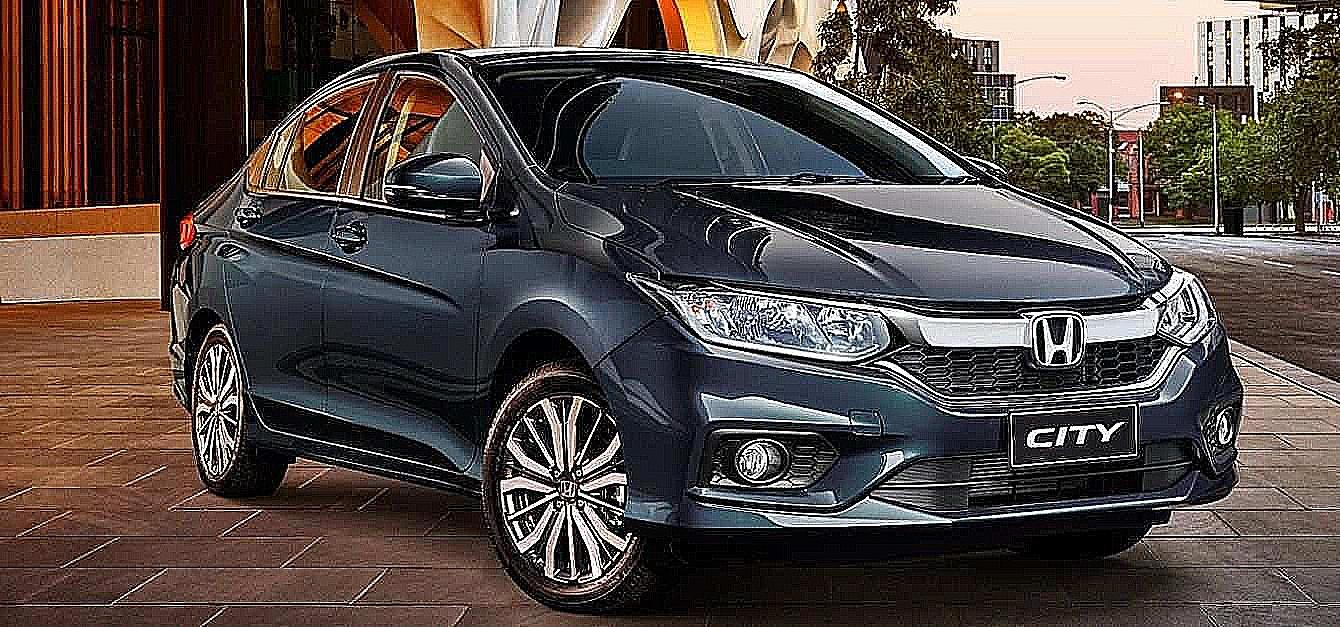Car hood: (557, 179, 1177, 311)
Driver-s door - -F-R-: (303, 41, 522, 494)
Fender - -F-R-: (468, 152, 668, 512)
Fender - -R-R-: (162, 149, 251, 420)
Front bumper: (587, 312, 1255, 550)
Headlight - -L-: (1142, 268, 1225, 359)
Headlight - -R-: (627, 273, 907, 369)
Passenger-s door - -R-R-: (211, 42, 380, 484)
Side bumper - -R-: (243, 394, 487, 511)
Side mirror - -R-: (379, 150, 511, 235)
